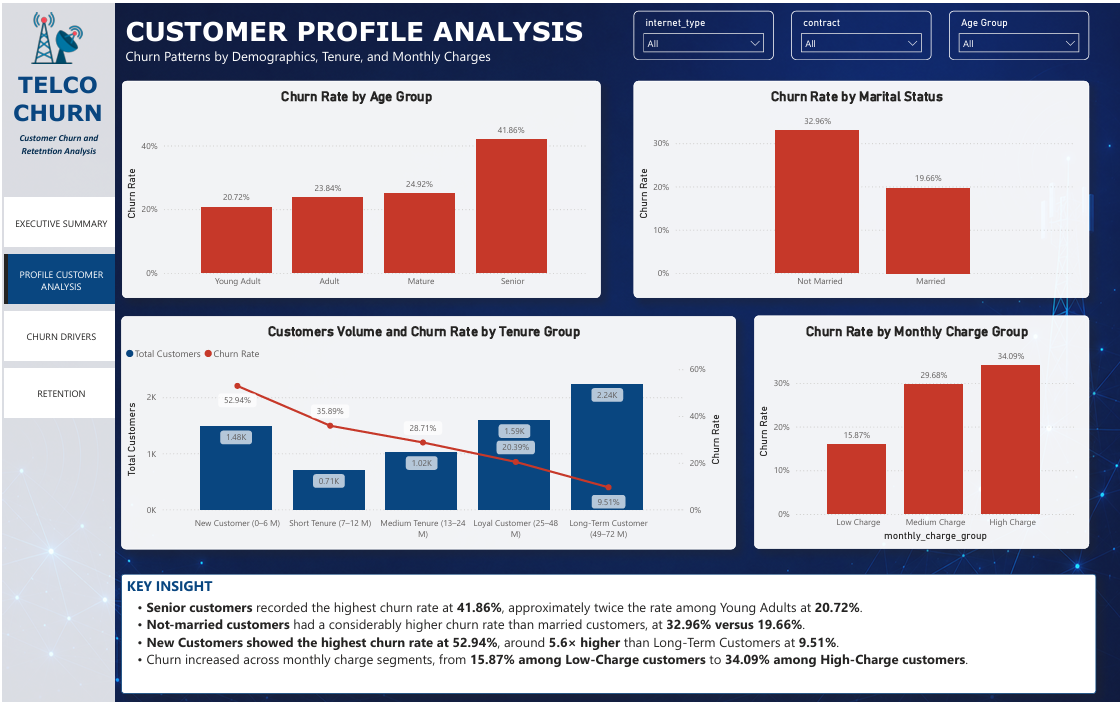

Layout of this report page (visuals, bound fields, positions):
{"tool":"powerbi","page":{"name":"PROFILE CUSTOMER ANALYSIS","canvas":[1600,1000],"ordinal":1},"visuals":[{"type":"textbox","box":[170,10,1393.3,100],"z":0},{"type":"textbox","title":"KEY INSIGHT","box":[169.2,814.3,1390.8,170.9],"z":1000},{"type":"lineStackedColumnComboChart","title":"Customers Volume and Churn Rate by Tenure Group","fields":{"Category":["telco_churn_final_analysis.Tenure Group Display"],"Y":["telco_churn_final_analysis.Total Customers"],"Y2":["telco_churn_final_analysis.Churn Rate"]},"box":[169.2,445.7,876.3,333.4],"z":2000},{"type":"columnChart","title":"Churn Rate by Age Group","fields":{"Y":["telco_churn_final_analysis.Churn Rate"],"Category":["telco_churn_final_analysis.Age Group"]},"box":[170,110,683.3,310],"z":3000},{"type":"columnChart","title":"Churn Rate by Marital Status","fields":{"Y":["telco_churn_final_analysis.Churn Rate"],"Category":["telco_churn_final_analysis.Marital Status Label"]},"box":[900,110,650,310],"z":4000},{"type":"shape","box":[0,0,160,1000],"z":5000},{"type":"image","box":[27.1,12.9,100,72.9],"z":6000},{"type":"textbox","box":[1.4,91.4,154.3,104.3],"z":7000},{"type":"textbox","box":[2.9,177.1,154.3,54.3],"z":8000},{"type":"slicer","fields":{"Values":["telco_churn_final_analysis.Age Group"]},"box":[1350,10,200,70],"z":9000},{"type":"slicer","fields":{"Values":["telco_churn_final_analysis.internet_type"]},"box":[900,10,200,70],"z":10000},{"type":"slicer","fields":{"Values":["telco_churn_final_analysis.contract"]},"box":[1125,10,200,70],"z":11000},{"type":"columnChart","title":"Churn Rate by Monthly Charge Group","fields":{"Y":["telco_churn_final_analysis.Churn Rate"],"Category":["telco_churn_final_analysis.monthly_charge_group"]},"box":[1071.7,445,478.3,333.3],"z":12000},{"type":"pageNavigator","box":[1.5,277.5,158.3,316.7],"z":13000}]}

Visuals, with their boxes in screenshot pixels (x1, y1, x2, y2), scaled from the page's 1600x1000 canvas onto the 1120x702 screenshot:
textbox: x1=119 y1=7 x2=1094 y2=77
"KEY INSIGHT" textbox: x1=118 y1=572 x2=1092 y2=692
"Customers Volume and Churn Rate by Tenure Group" lineStackedColumnComboChart: x1=118 y1=313 x2=732 y2=547
"Churn Rate by Age Group" columnChart: x1=119 y1=77 x2=597 y2=295
"Churn Rate by Marital Status" columnChart: x1=630 y1=77 x2=1085 y2=295
shape: x1=0 y1=0 x2=112 y2=701
image: x1=19 y1=9 x2=89 y2=60
textbox: x1=1 y1=64 x2=109 y2=137
textbox: x1=2 y1=124 x2=110 y2=162
slicer - telco_churn_final_analysis.Age Group: x1=945 y1=7 x2=1085 y2=56
slicer - telco_churn_final_analysis.internet_type: x1=630 y1=7 x2=770 y2=56
slicer - telco_churn_final_analysis.contract: x1=788 y1=7 x2=927 y2=56
"Churn Rate by Monthly Charge Group" columnChart: x1=750 y1=312 x2=1085 y2=546
pageNavigator: x1=1 y1=195 x2=112 y2=417
